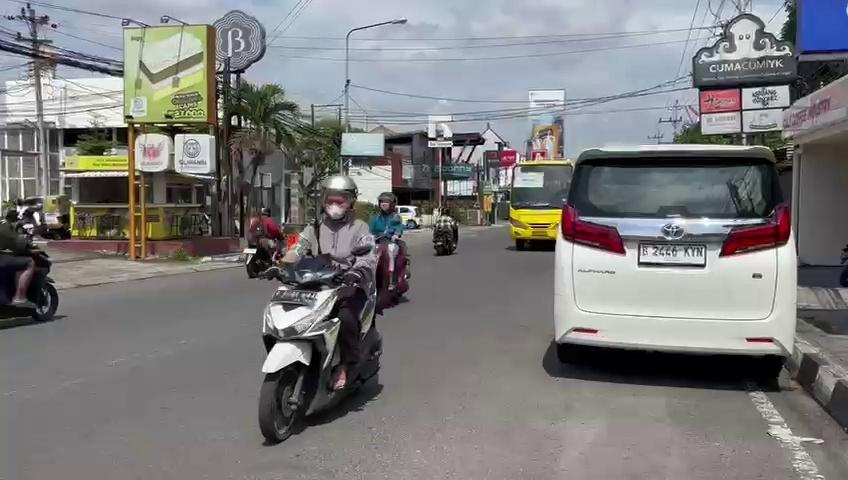helm: (315, 170, 361, 225)
riding: (251, 166, 397, 453)
